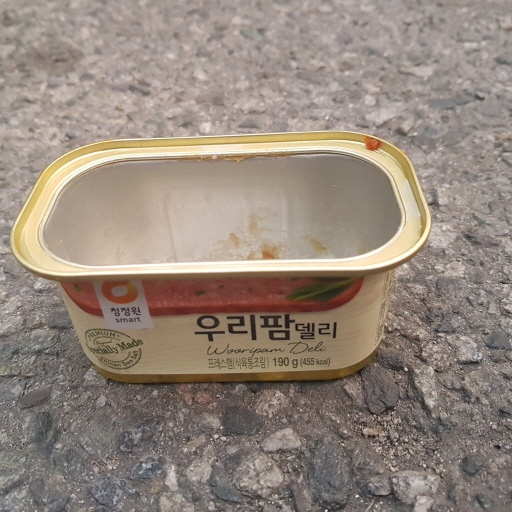Metal_2: (8, 127, 438, 392)
